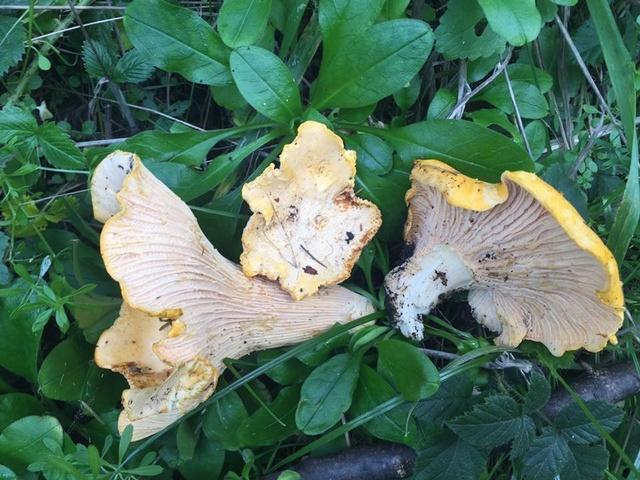Edible Mushroom: (89, 145, 378, 441), (383, 157, 625, 357)
